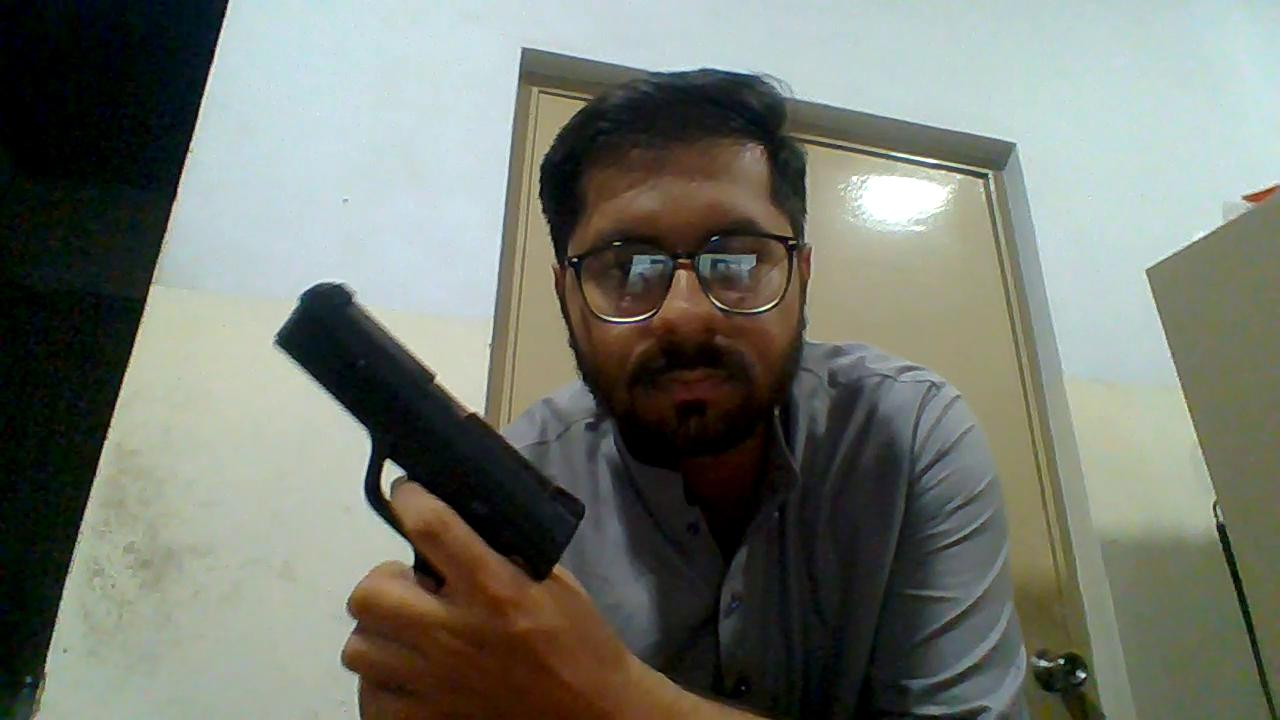criminal: (275, 69, 1029, 720)
weapon: (276, 277, 585, 598)
